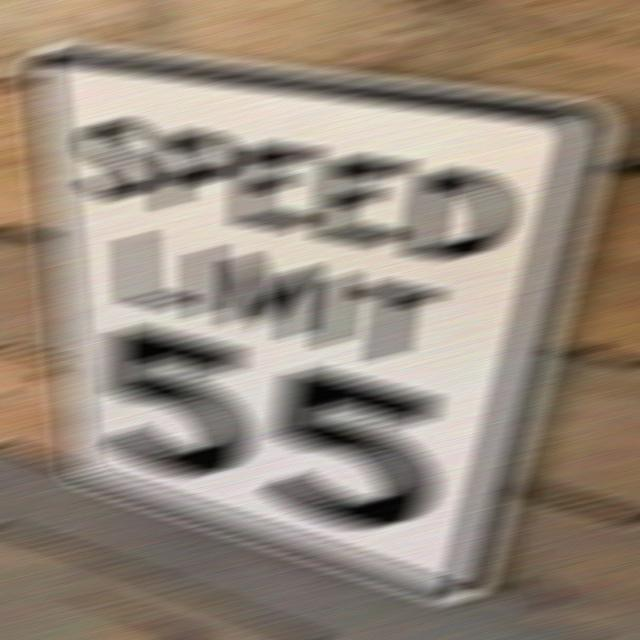speedLimit55: (19, 41, 625, 628)
